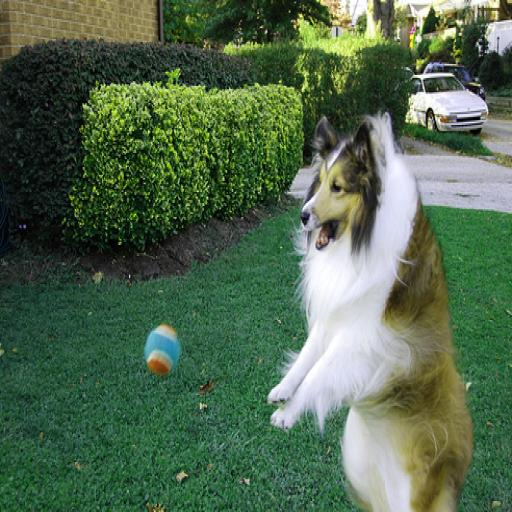dog_face: (300, 116, 383, 258)
